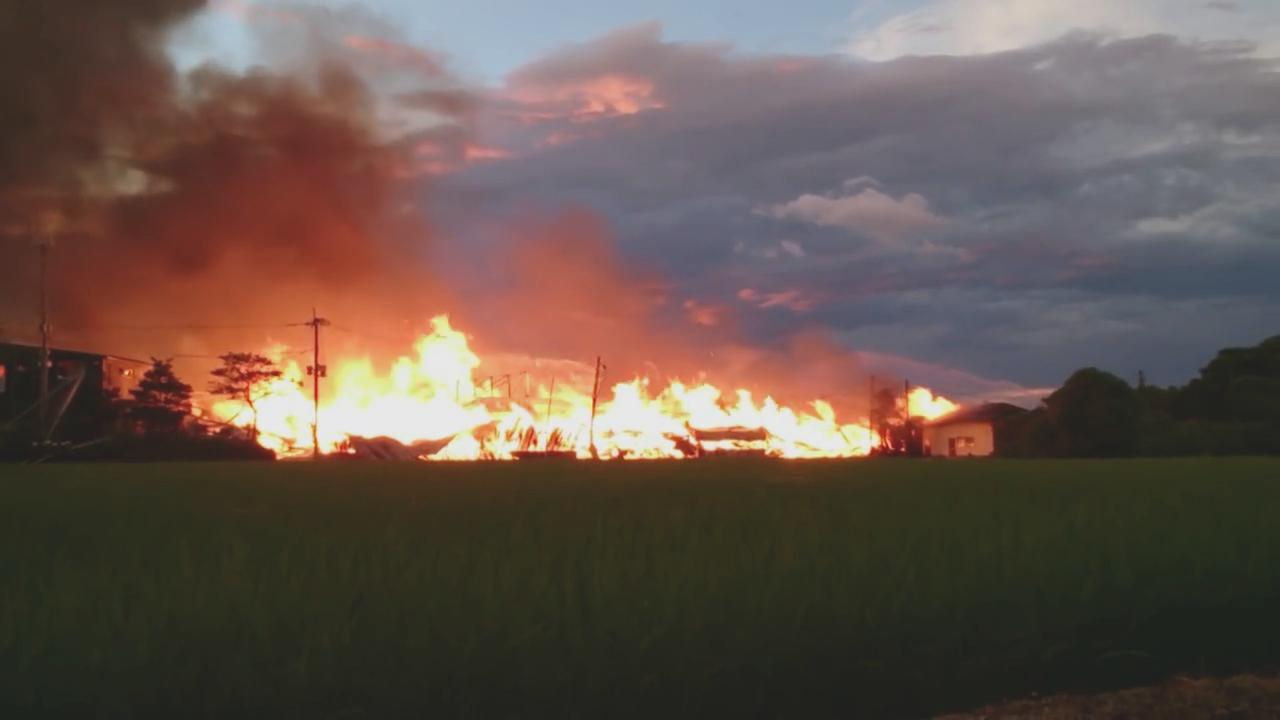Fire: (195, 312, 891, 458), (897, 382, 958, 423)
